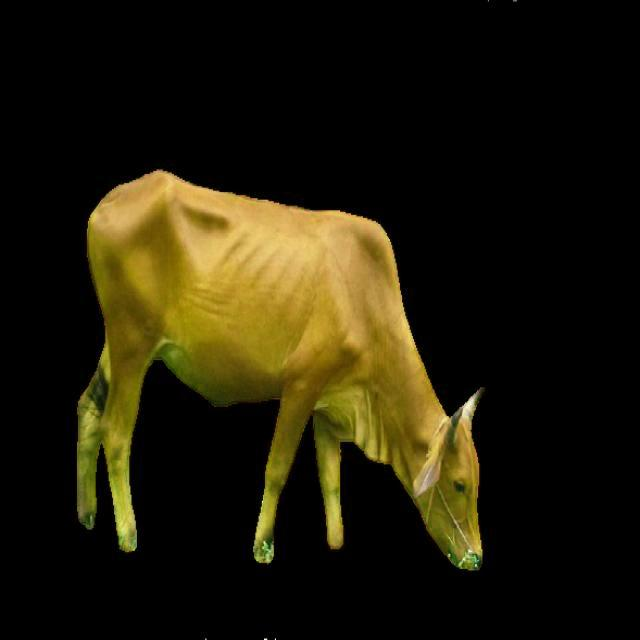cow: (78, 171, 482, 569)
